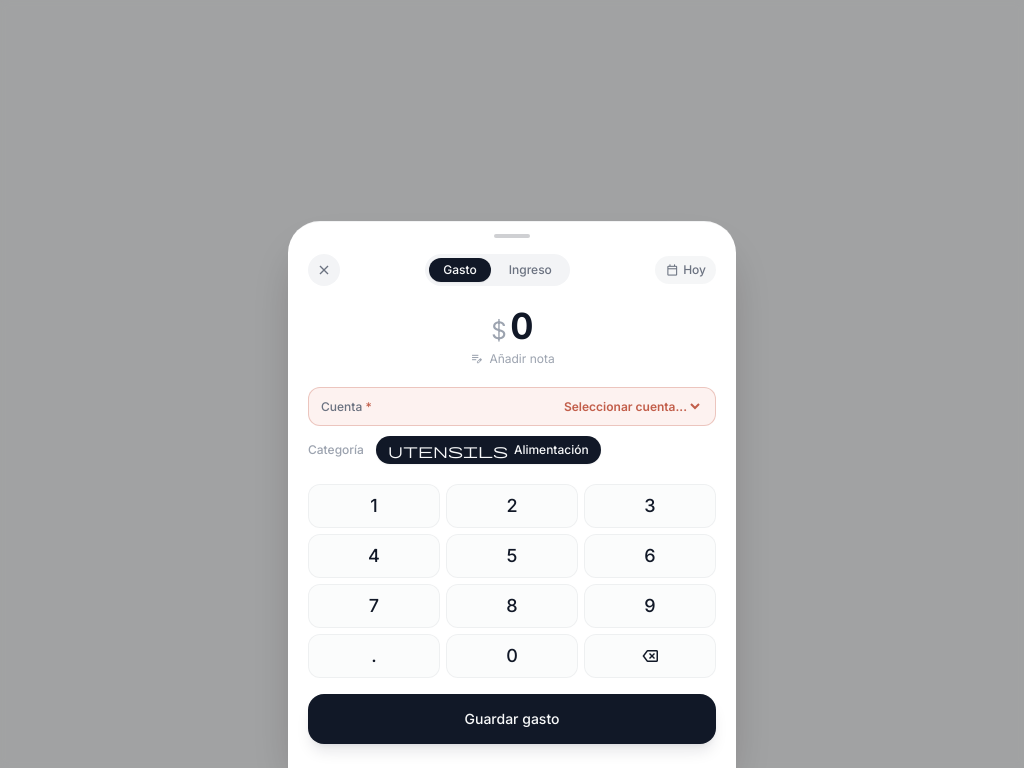
Test: TransactionModal › valida que el monto sea mayor a cero
What coordinates should you click on to do the following:
click the button "Guardar gasto"
I would click on:
 (512, 719)
Its box is [308,694,716,744].
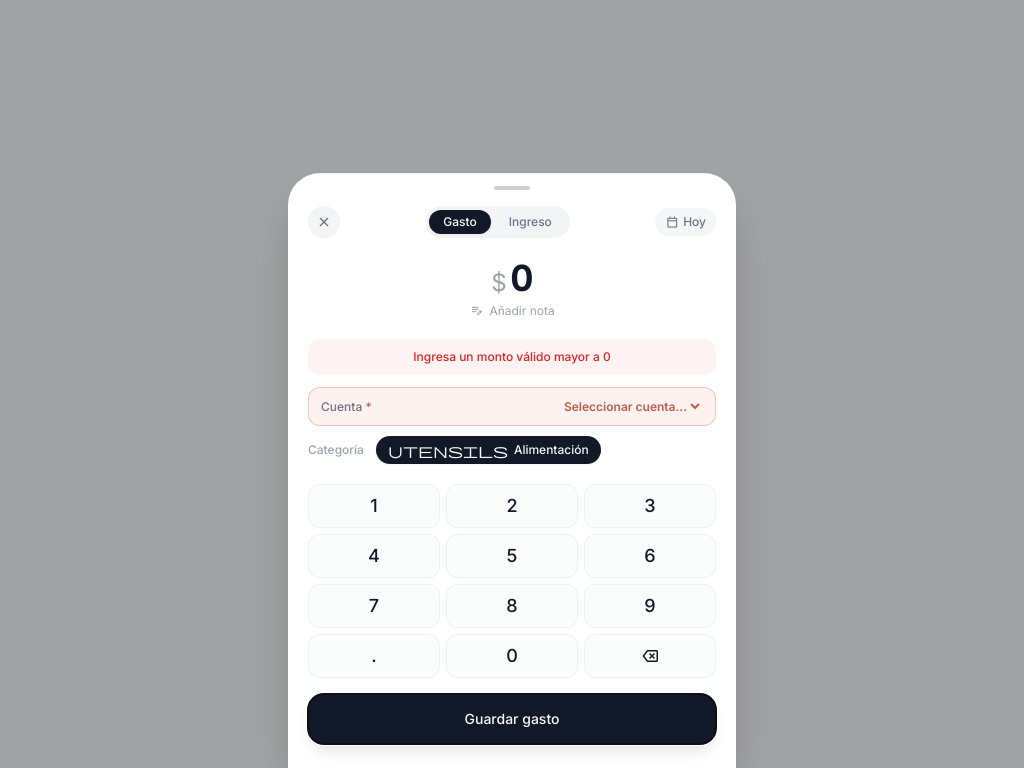
Check: the text "Ingresa un monto válido mayor a 0" is shown, box [308,339,716,375]
